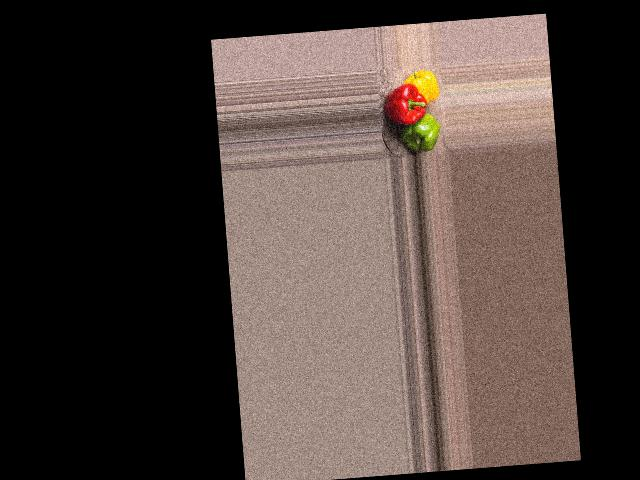bell_pepper: (402, 69, 441, 103)
